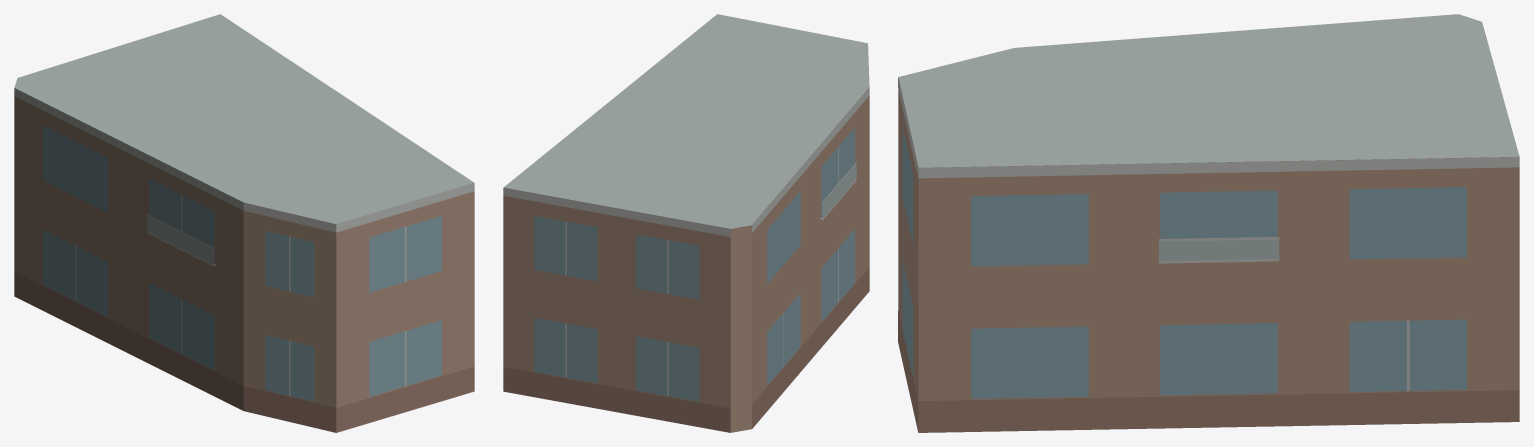
File: survey-upis-32500792.glb
The picture shows the model from 3 angles, left to right: view 1: azimuth 30°, elevation 25°; view 2: azimuth 150°, elevation 25°; view 3: azimuth 270°, elevation 25°; orthographic projection. The views are drawn at different scales.
Parts seen in each view (by area): view 1: survey-upis-32500792.tmp; view 2: survey-upis-32500792.tmp; view 3: survey-upis-32500792.tmp.
Part boxes in pixels (<box>): survey-upis-32500792.tmp: <box>14,14,474,432</box>; survey-upis-32500792.tmp: <box>503,14,869,432</box>; survey-upis-32500792.tmp: <box>898,14,1519,432</box>.
Size of the model in its own units: 7.6 by 6.1 by 12.97.
